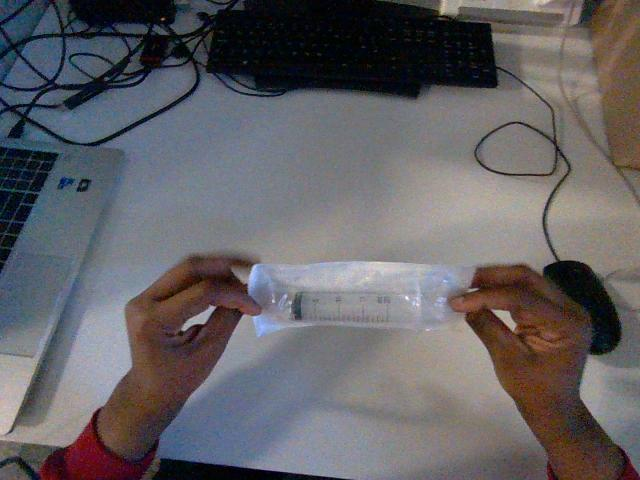syringe: (248, 262, 474, 335)
